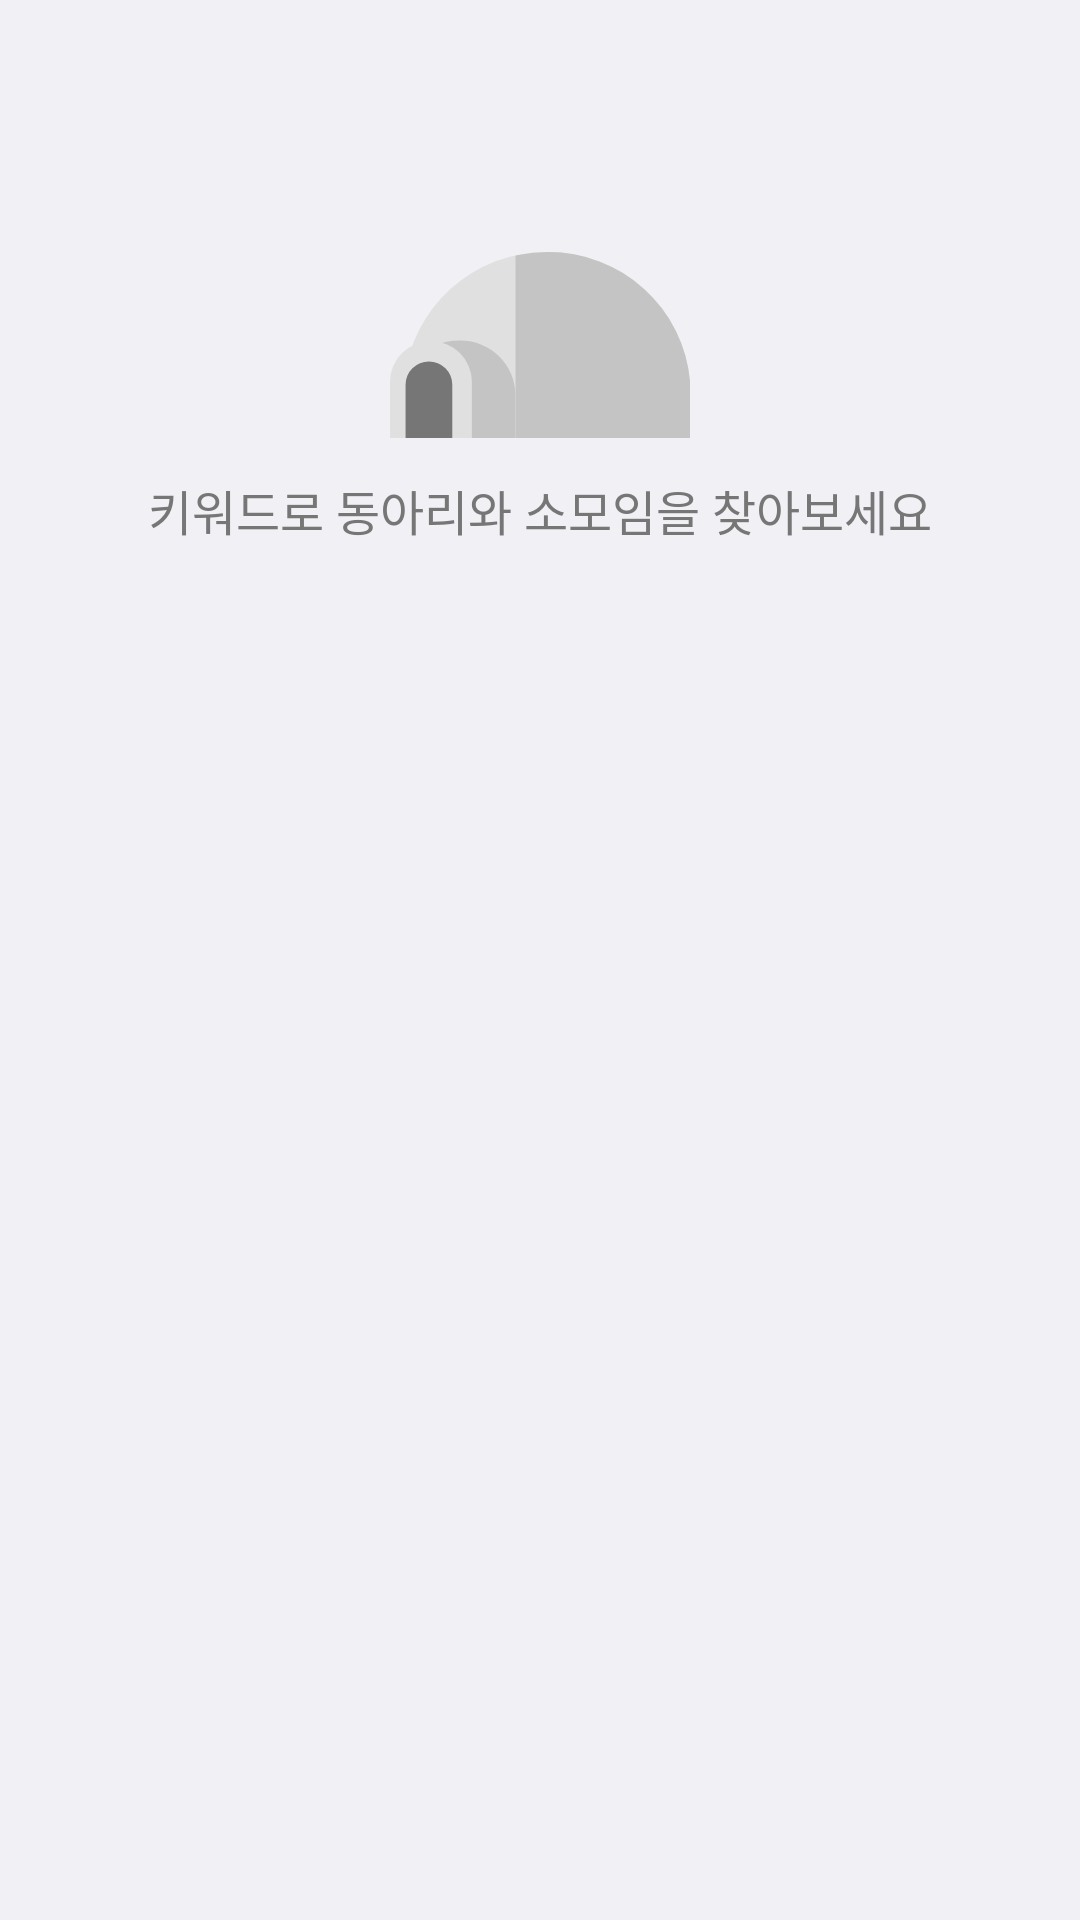

Named icons in this screenshot (1080px×1920px) and their bounding boxes, (x1, y1, x2, y2):
search igloo: (405, 252, 690, 438)
